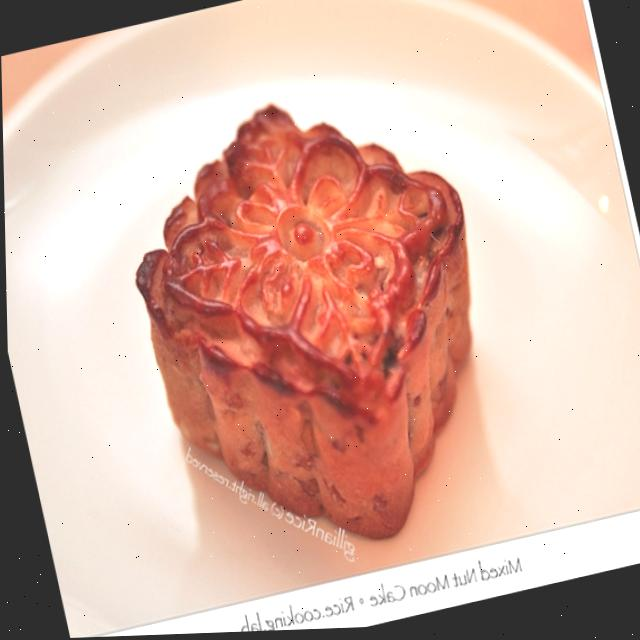蛋糕甜品: (97, 62, 536, 586)
